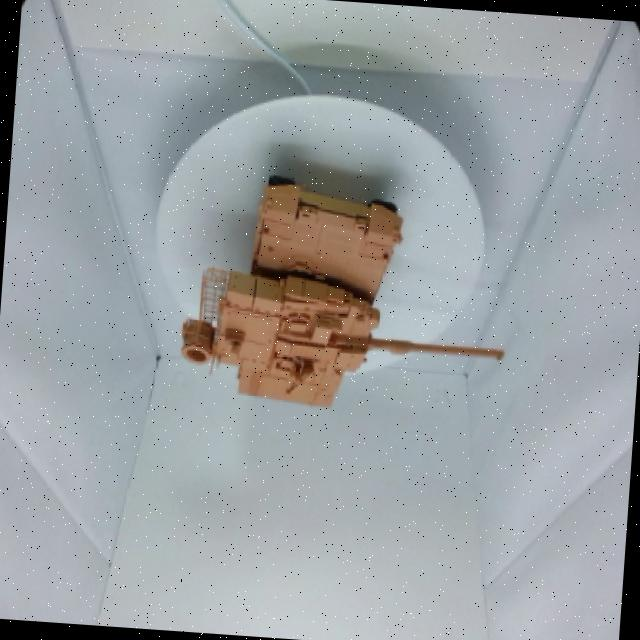korea tank: (142, 140, 540, 462)
